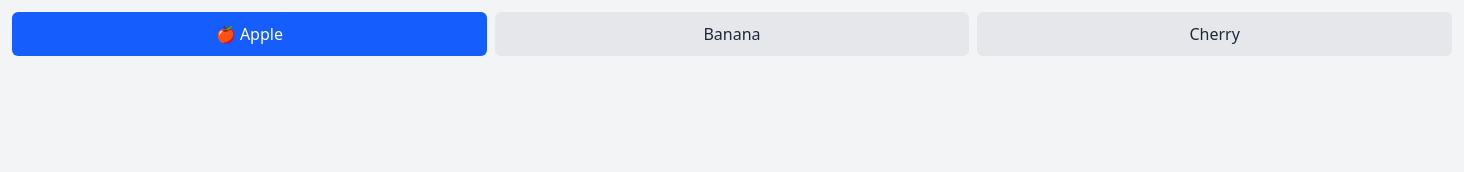
Scenario: SegmentedControl › uses the default and per-option active colours
This screenshot has width=1464, height=172.
Click the radio button labelled "Cherry" at (1215, 34), box [977,12,1452,56]
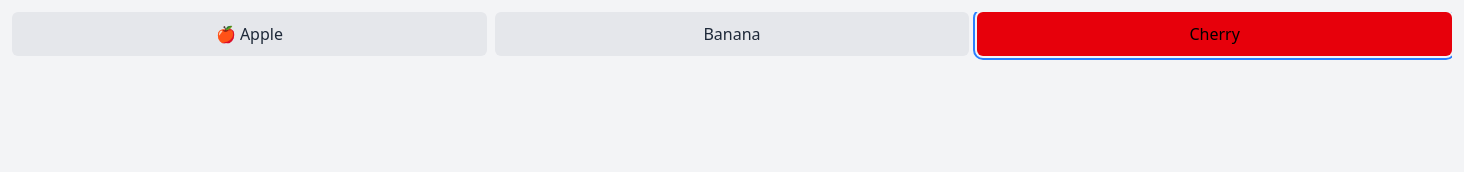
expect the radio button labelled "Cherry" has class "bg-red-600": met, box [977,12,1452,56]
